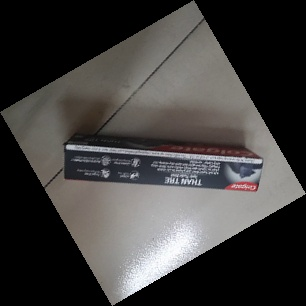Colgate Than: (61, 132, 264, 195)
